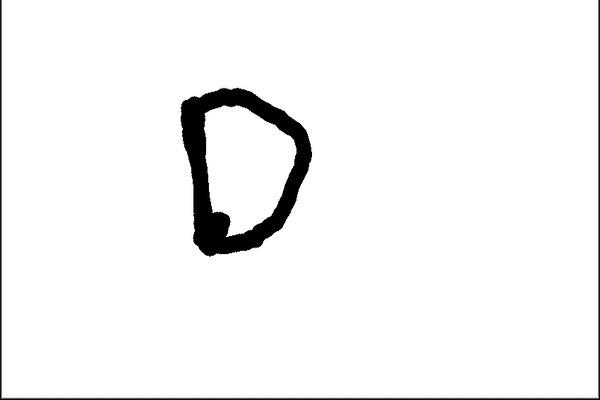D: (174, 81, 321, 264)
